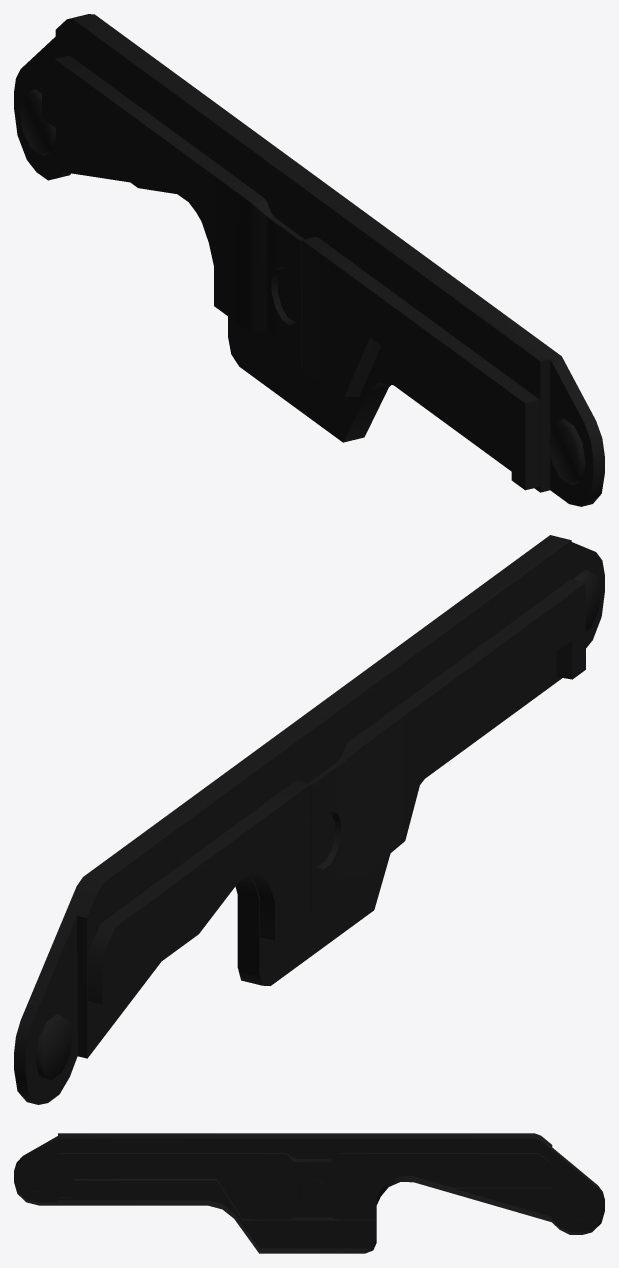
The model's file is att_side_rail.glb.
The picture shows the model from 3 angles, top to bottom: view 1: azimuth 30°, elevation 25°; view 2: azimuth 150°, elevation 25°; view 3: azimuth 270°, elevation 25°; orthographic projection. The views are drawn at different scales.
Parts seen in each view (by area): view 1: side_rail.005; view 2: side_rail.005; view 3: side_rail.005.
Boxes of the visible parts, box(x1,y1,x2,y2) form: side_rail.005: box(14, 14, 604, 506); side_rail.005: box(14, 535, 604, 1104); side_rail.005: box(14, 1133, 604, 1253).
Bounding box in the file's own units: 0.00434 × 0.0259 × 0.1204.
1 material, 1 textured.
